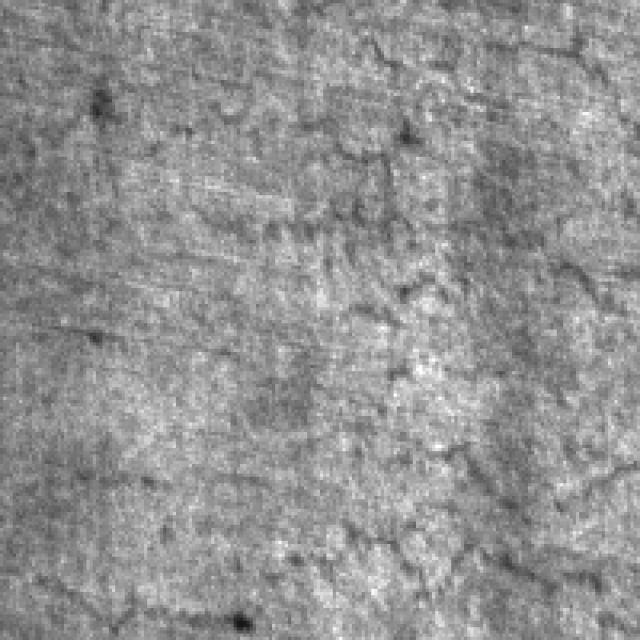crazing: (230, 336, 640, 598), (208, 147, 640, 320)
